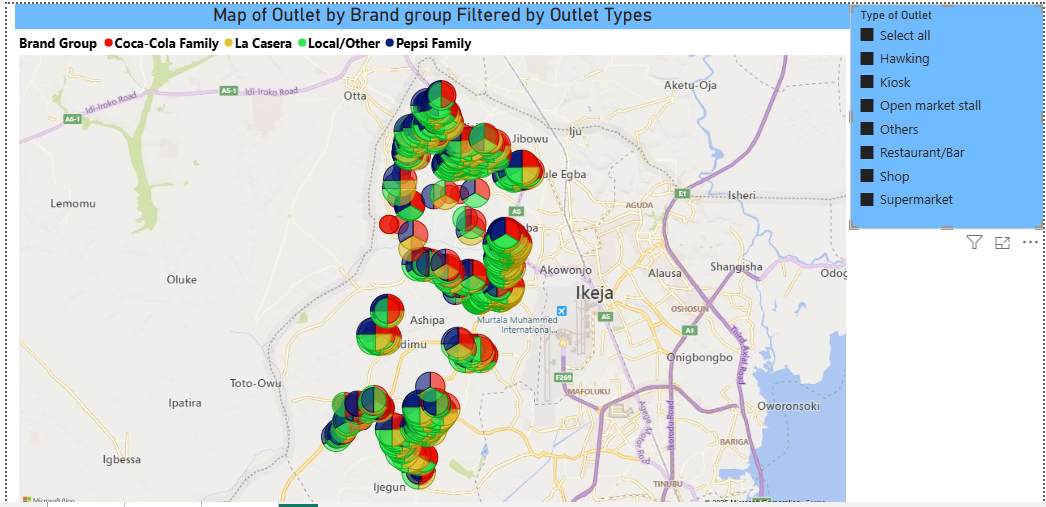

Layout of this report page (visuals, bound fields, positions):
{"tool":"powerbi","page":{"name":"Page 2","canvas":[1280,720],"ordinal":1},"visuals":[{"type":"map","title":"Map of Outlet by Brand group Filtered by Outlet Types","fields":{"Y":["Data.Latitude"],"X":["Data.Longitude"],"Size":["Data.Total Outlets"],"Series":["Data.Brand Group"]},"box":[9.9,0,1030.9,633.3],"z":0},{"type":"slicer","fields":{"Values":["Data.Type of Outlet"]},"box":[1040.7,0,239.5,277.8],"z":1}]}

Visuals, with their boxes on the page's 1280x720 design canvas (x1, y1, x2, y2). These are canvas units, not pixel positions in the 1046x507 screenshot, which may show the page scaled, cropped or inside an application window:
"Map of Outlet by Brand group Filtered by Outlet Types" map: (left=10, top=0, right=1041, bottom=633)
slicer - Data.Type of Outlet: (left=1041, top=0, right=1280, bottom=278)
